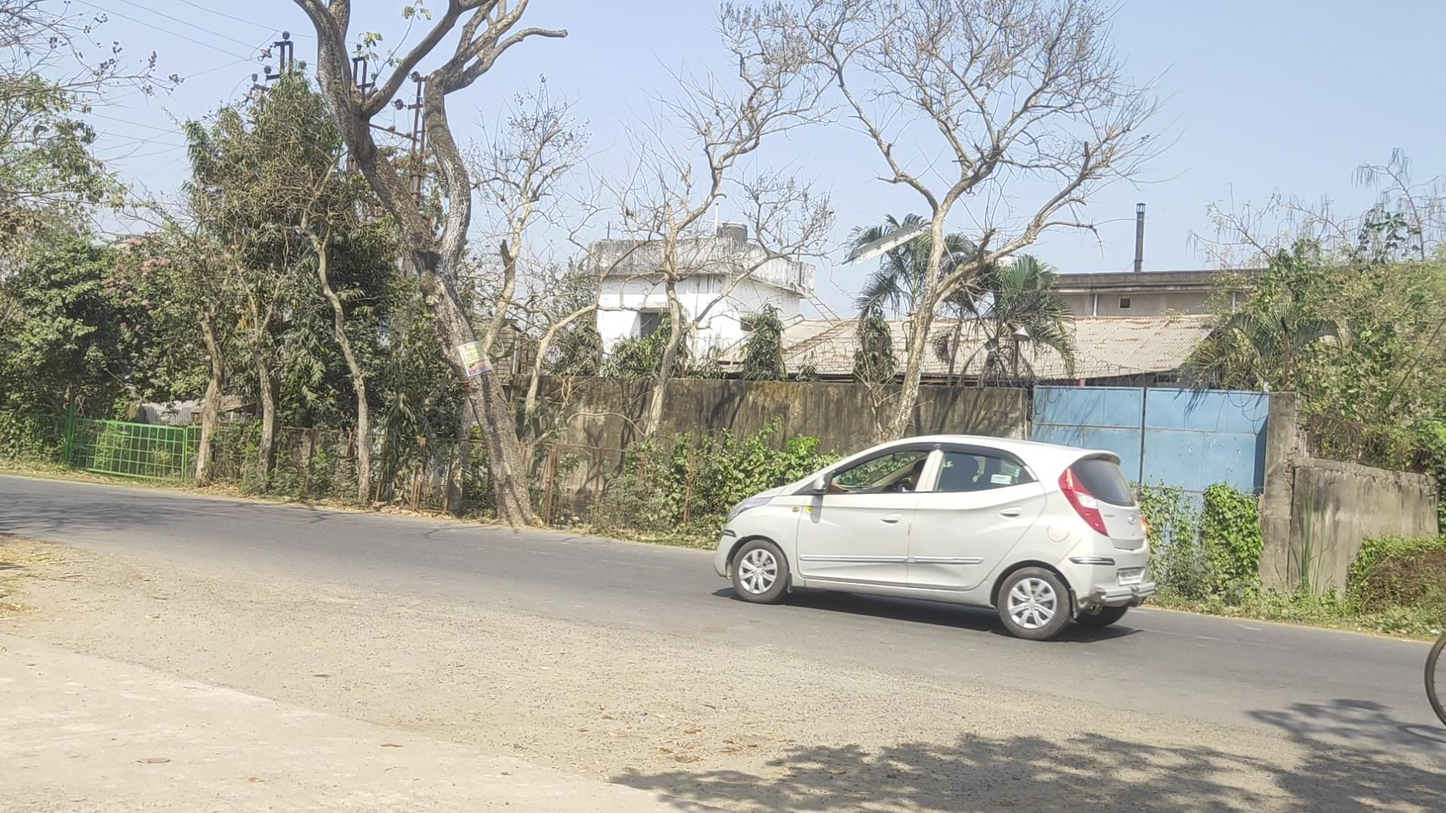car: (714, 434, 1154, 641)
